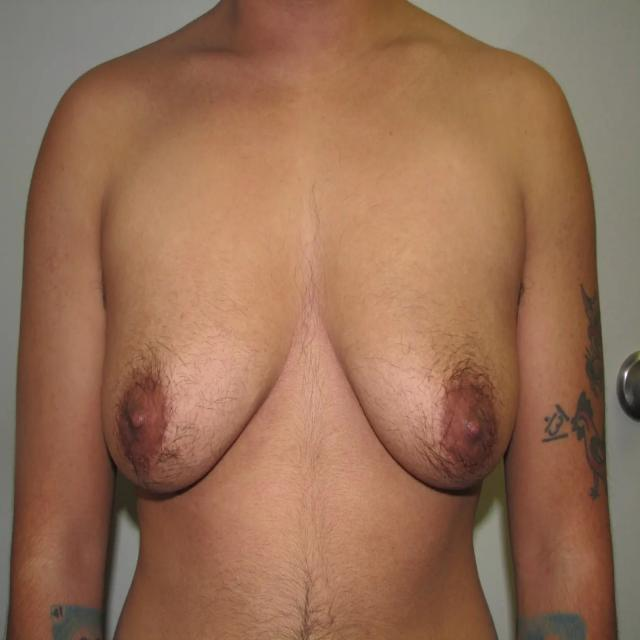Seno ileso: (314, 222, 529, 526), (92, 225, 304, 528)
